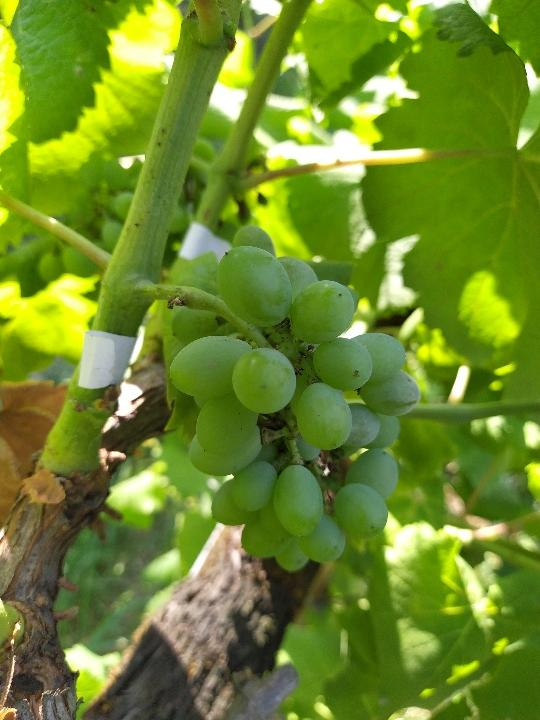grape: (169, 224, 422, 576)
